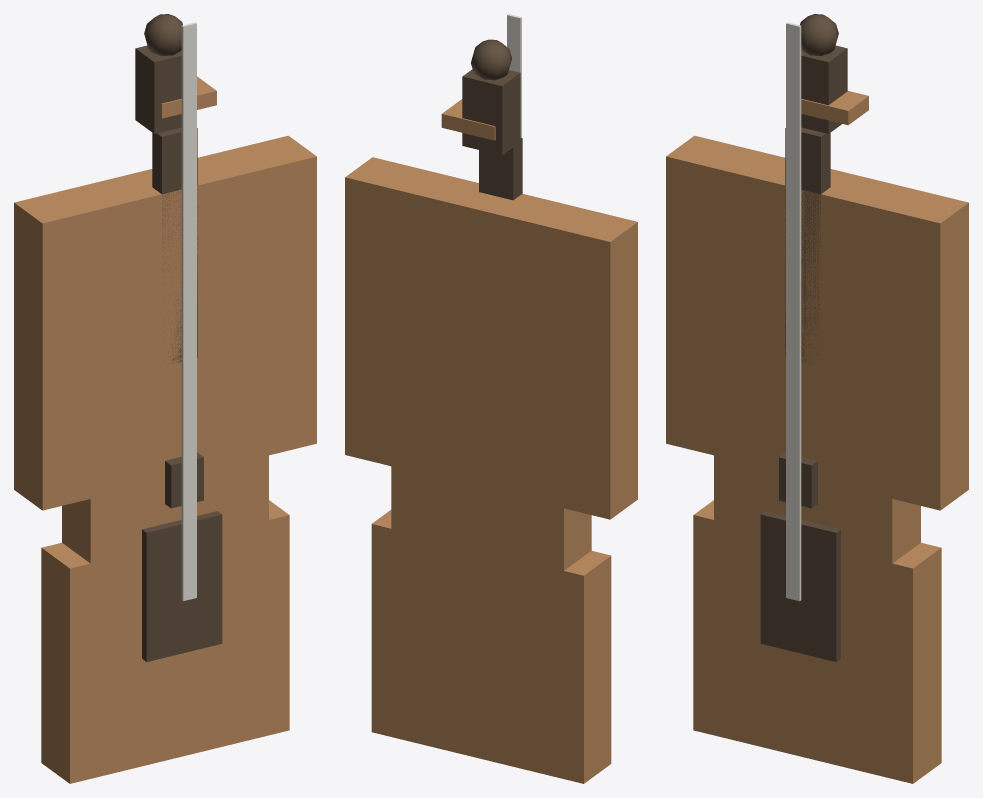
File: violin.glb
The picture shows the model from 3 angles, left to right: view 1: azimuth 30°, elevation 25°; view 2: azimuth 150°, elevation 25°; view 3: azimuth 330°, elevation 25°; orthographic projection. The views are drawn at different scales.
Visible parts, largest first — view 1: violin; view 2: violin; view 3: violin.
Part boxes in pixels (x1=…): violin: x1=14, y1=14, x2=316, y2=783; violin: x1=345, y1=14, x2=637, y2=783; violin: x1=666, y1=14, x2=968, y2=783.
Bounding box in the file's own units: 0.2 × 0.515 × 0.049.
